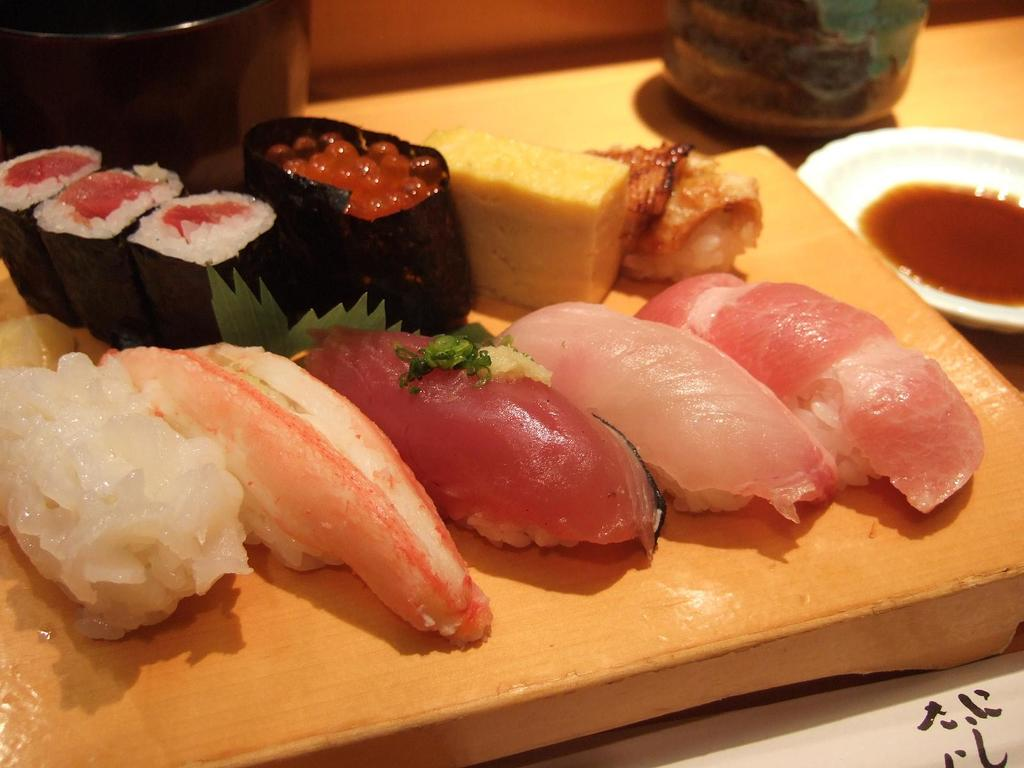sushi: (0, 121, 979, 646), (301, 326, 662, 561)
